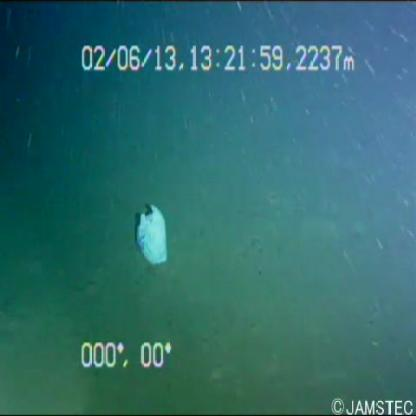Rác: (115, 194, 200, 287)
